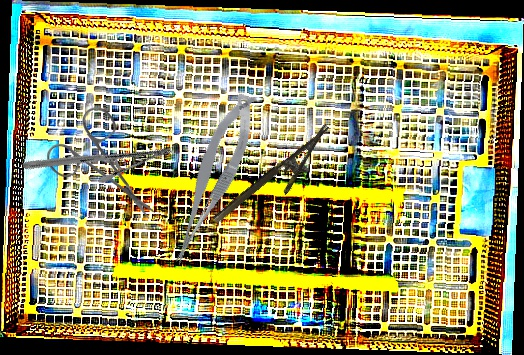Iris Scissors: (46, 106, 156, 219)
Micro Scissor: (150, 88, 273, 269)
Needle Holder: (22, 89, 173, 227), (211, 123, 345, 240)
